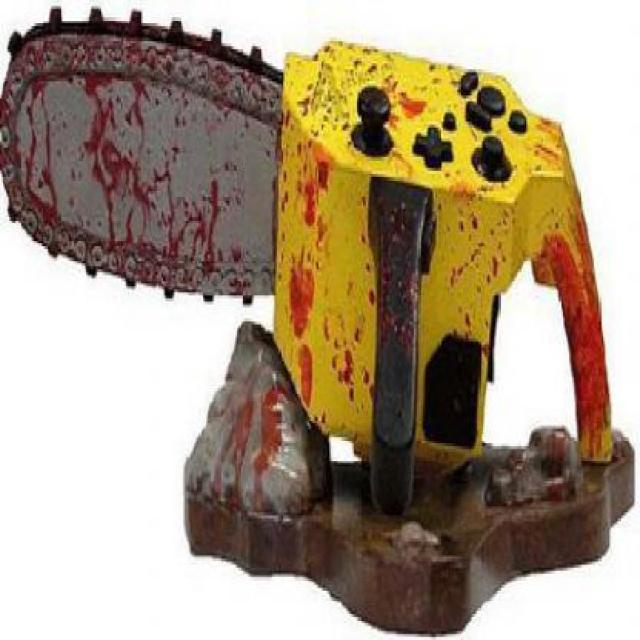Chainsaw: (0, 3, 612, 529)
